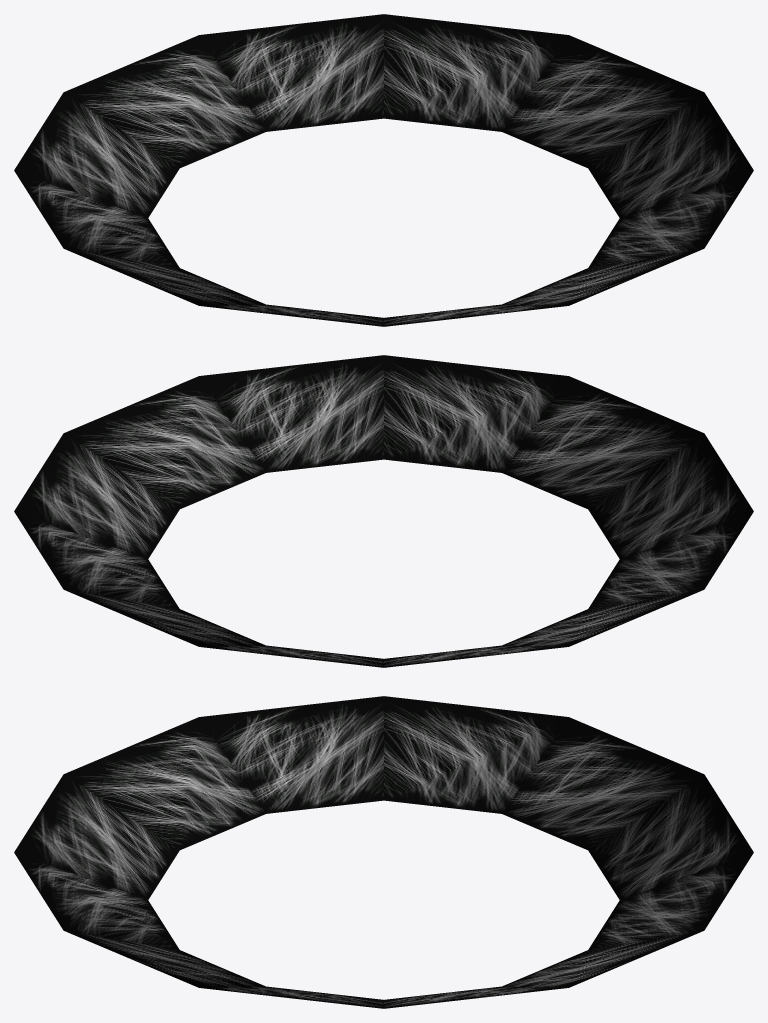
The model's file is MIRKWOOD_SB_995.fbx.
3 renders of one model, top to bottom at view 1: azimuth 30°, elevation 25°; view 2: azimuth 150°, elevation 25°; view 3: azimuth 270°, elevation 25°, orthographic.
Visible parts, largest first — view 1: MIRKWOOD_SB_995; view 2: MIRKWOOD_SB_995; view 3: MIRKWOOD_SB_995.
Boxes of the visible parts, left/top/right/bottom form: MIRKWOOD_SB_995: left=14, top=14, right=753, bottom=326; MIRKWOOD_SB_995: left=14, top=355, right=753, bottom=667; MIRKWOOD_SB_995: left=14, top=696, right=753, bottom=1008.
Size of the model in its own units: 409198 by 29125 by 409198.
Materials: 1 (1 with a texture image).
